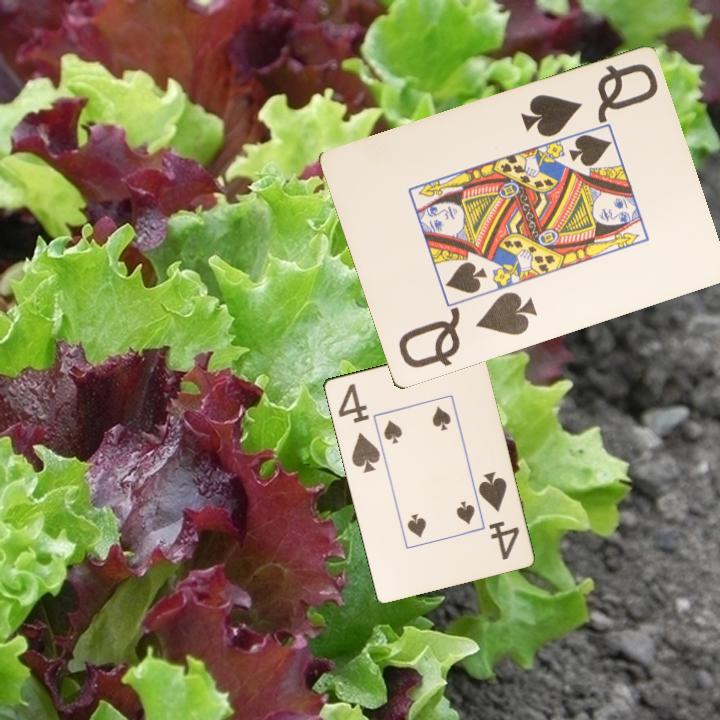4s: (334, 380, 383, 476), (474, 468, 522, 562)
Qs: (394, 288, 540, 372), (517, 60, 661, 141)
